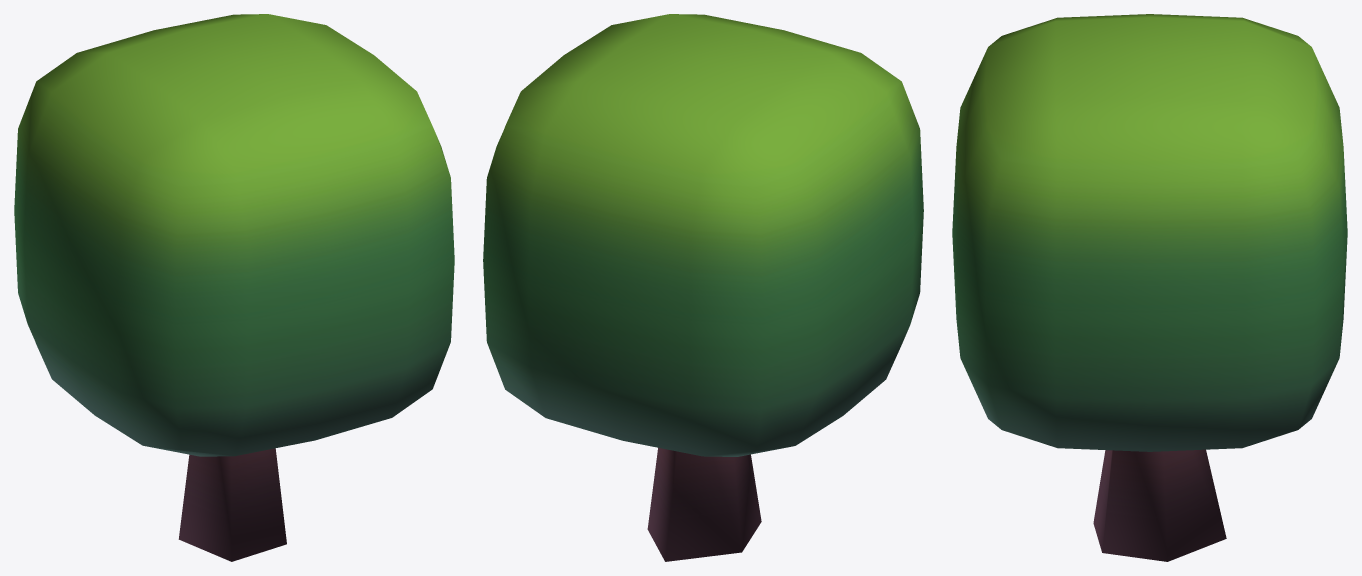
The model's file is Tree_Square.obj.
3 views of the same model, side by side, from view 1: azimuth 30°, elevation 25°; view 2: azimuth 150°, elevation 25°; view 3: azimuth 270°, elevation 25° (orthographic). The views are drawn at different scales.
Visible parts, largest first — view 1: {mesh}Tree_Square_Cylinder.002; view 2: {mesh}Tree_Square_Cylinder.002; view 3: {mesh}Tree_Square_Cylinder.002.
Part boxes in pixels (x1,y1,x2,y2): {mesh}Tree_Square_Cylinder.002: [14, 14, 454, 561]; {mesh}Tree_Square_Cylinder.002: [483, 14, 923, 561]; {mesh}Tree_Square_Cylinder.002: [952, 14, 1347, 561].
Bounding box in the file's own units: 79 × 107 × 79.
Materials: 1 (1 with a texture image).
